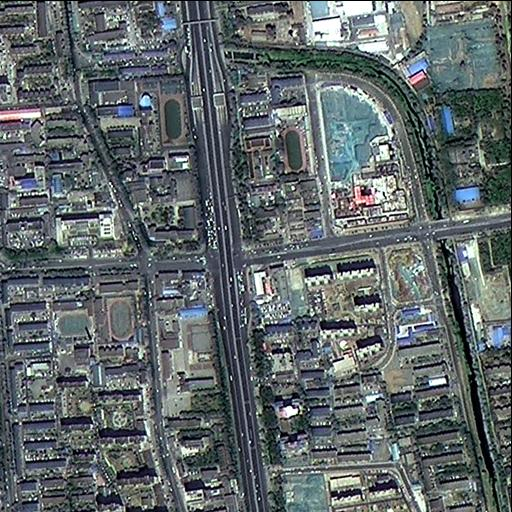school: (93, 271, 143, 347), (272, 102, 310, 178), (49, 295, 96, 343)
